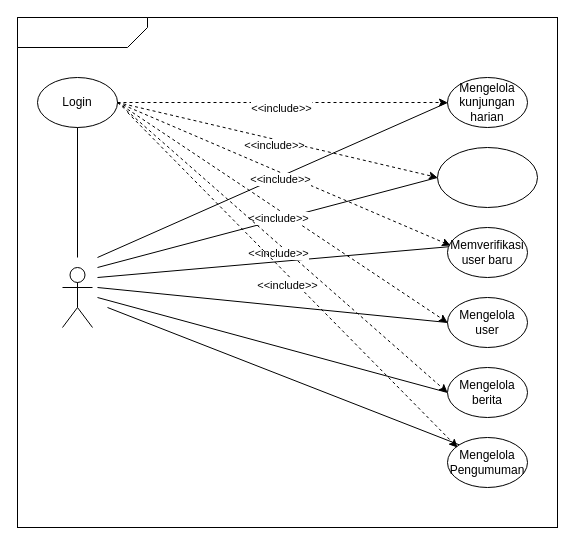
Some shapes in this 575 by 553 pixel diagram are drawn without their labels. Each missing label, with the centre of its shape:
Melihat semua daftar riwayat kunjungan: (x=487, y=177)
Petugas: (x=77, y=297)
uc Use Case Admin: (x=82, y=32)
